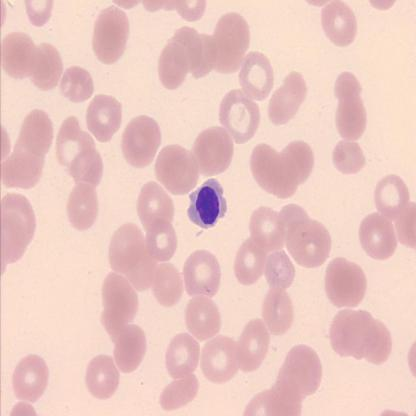NRC: (188, 176, 228, 230)
